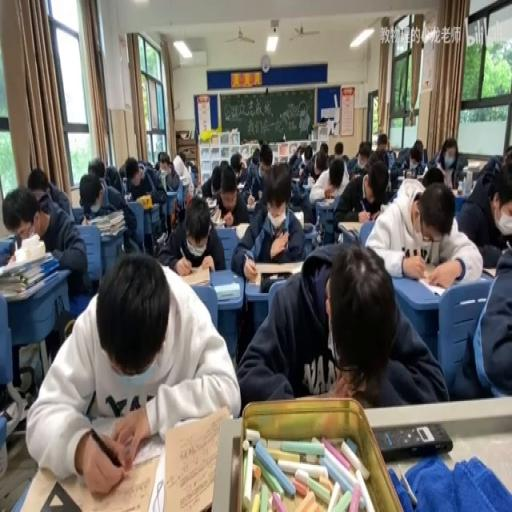calculator: (246, 257, 302, 286), (174, 259, 210, 284), (415, 273, 447, 294), (213, 282, 241, 300), (336, 219, 362, 233), (0, 233, 14, 257), (134, 193, 153, 209), (234, 222, 250, 240), (291, 209, 304, 229), (480, 264, 498, 278), (210, 206, 223, 224), (154, 230, 166, 246), (318, 195, 334, 206), (218, 222, 236, 230), (204, 196, 218, 206), (245, 196, 255, 209), (450, 186, 464, 195), (304, 176, 314, 188), (302, 222, 314, 232), (178, 174, 188, 182), (290, 176, 300, 184), (237, 181, 246, 189), (123, 192, 131, 201), (395, 174, 405, 179)
paper: (26, 253, 236, 495), (236, 240, 442, 410), (366, 176, 484, 286), (450, 225, 510, 401), (3, 179, 87, 300), (78, 168, 140, 259), (158, 193, 224, 273), (333, 155, 390, 238), (211, 164, 250, 228), (252, 144, 290, 209), (429, 137, 461, 189), (395, 138, 426, 179), (155, 151, 184, 193), (472, 153, 502, 185), (296, 144, 318, 182), (102, 164, 122, 192), (386, 155, 402, 189), (86, 156, 106, 182), (499, 148, 512, 183), (328, 162, 344, 189), (290, 179, 306, 206), (229, 151, 244, 179), (187, 162, 198, 189), (364, 148, 378, 166), (375, 134, 387, 152), (251, 148, 260, 165), (312, 161, 322, 176), (334, 141, 343, 156), (178, 151, 186, 166), (414, 149, 422, 162), (320, 142, 327, 156), (350, 171, 360, 179), (304, 154, 310, 164), (342, 152, 348, 161), (154, 161, 159, 169)
person: (374, 422, 451, 461), (404, 168, 413, 178)
